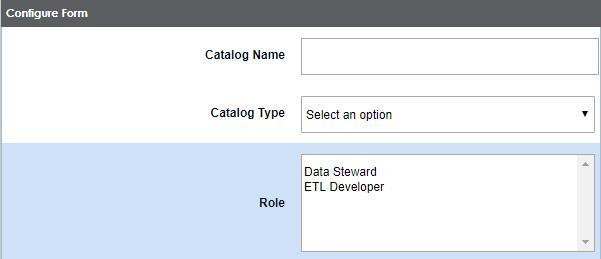dropdown: (302, 97, 595, 133)
input: (303, 39, 600, 75)
label: (4, 5, 93, 23), (205, 46, 285, 64), (210, 107, 288, 120), (257, 194, 289, 211)
